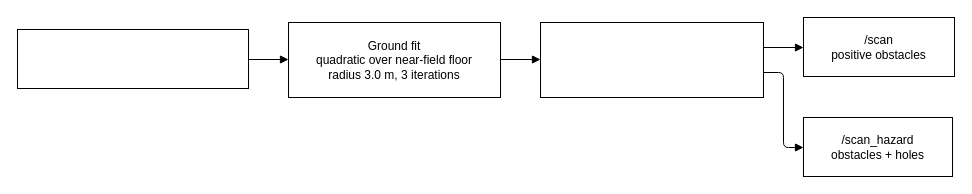
The diagram is 972 pixels wide and 194 high, and some of its shapes have lost their labels. Each missing label, with the centre of its shape:
3D lidar PointCloud2, 10 Hz VLP-16: /velodyne_points Mid-360: /livox/points: the point at 132,58
Height gate above fitted ground 0.08 – 0.65 m obstacles holes deeper than 0.12 m: the point at 652,60
